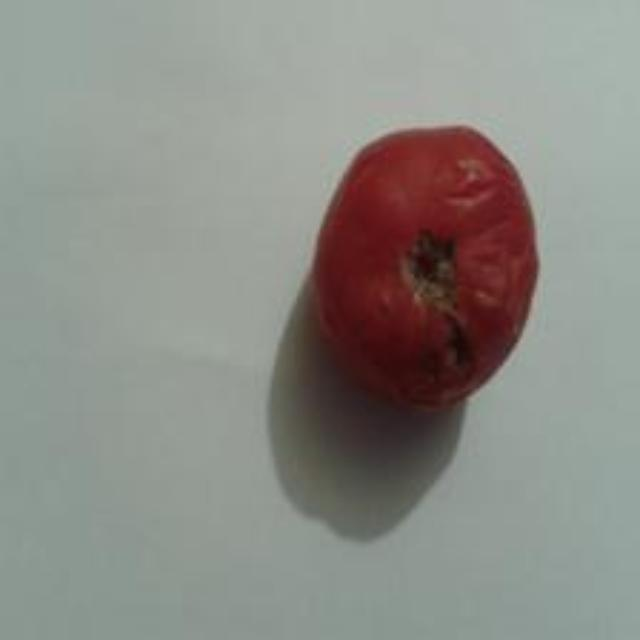defect: (307, 112, 540, 417)
